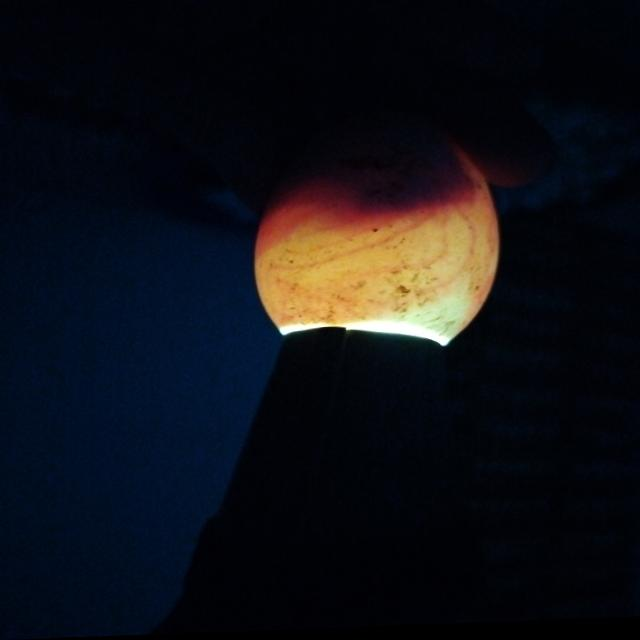Embriao: (258, 130, 468, 224)
